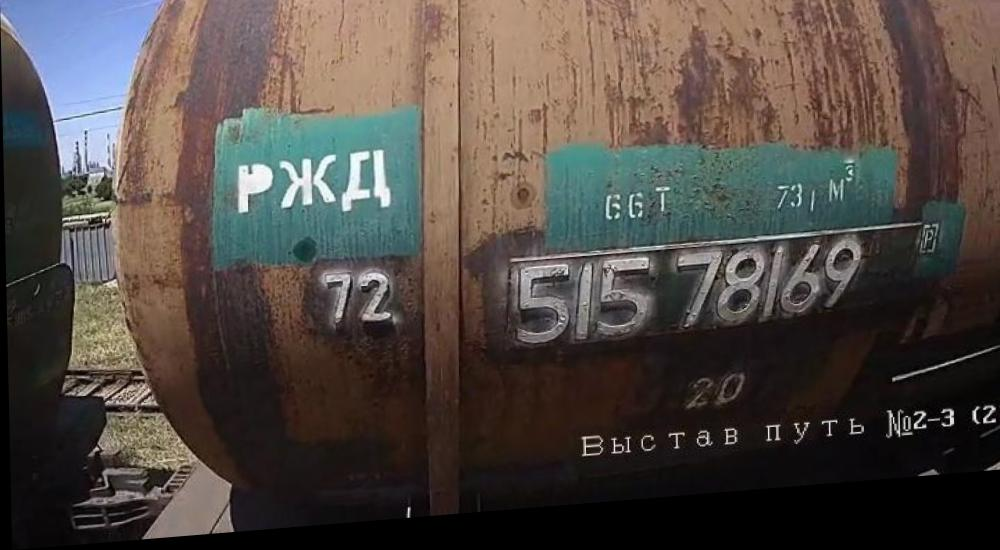Wagon-number: (504, 247, 871, 359)
